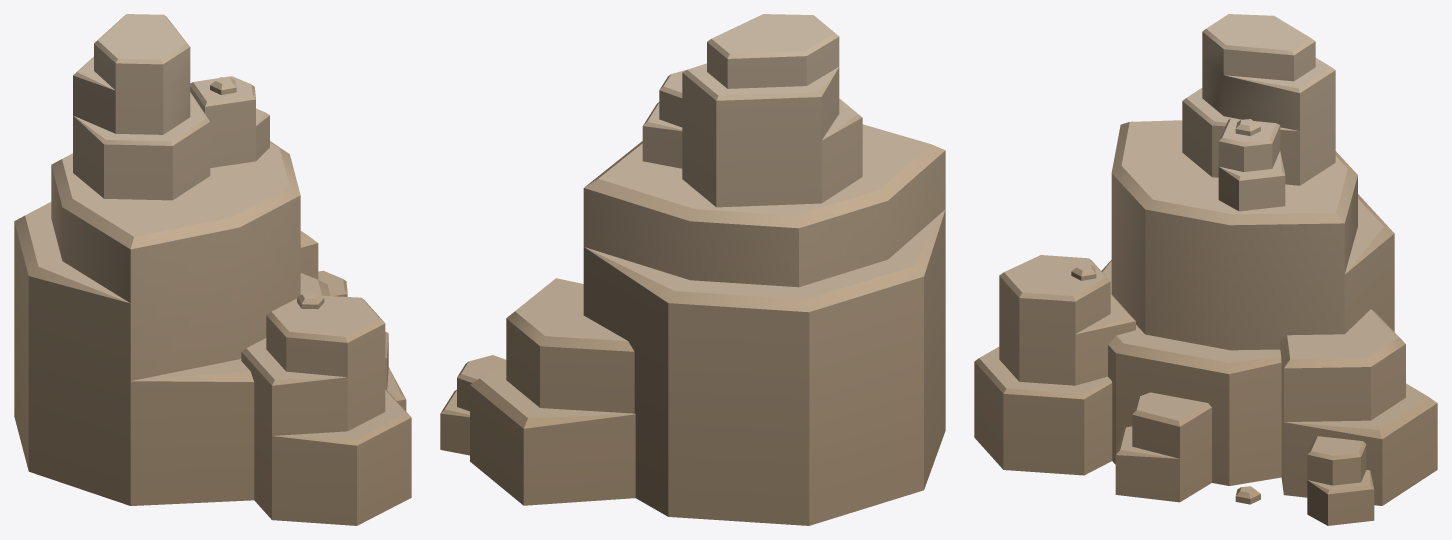
File: Rock_1_J_Color7.fbx
3 renders of one model, left to right at view 1: azimuth 30°, elevation 25°; view 2: azimuth 150°, elevation 25°; view 3: azimuth 270°, elevation 25°, orthographic. The views are drawn at different scales.
Visible parts, largest first — view 1: Rock_1_J_Color7; view 2: Rock_1_J_Color7; view 3: Rock_1_J_Color7.
Boxes of the visible parts, <box> form: Rock_1_J_Color7: <box>14,14,411,525</box>; Rock_1_J_Color7: <box>440,14,945,525</box>; Rock_1_J_Color7: <box>974,14,1437,525</box>.
Size of the model in its own units: 3.39 by 3.36 by 3.76.
